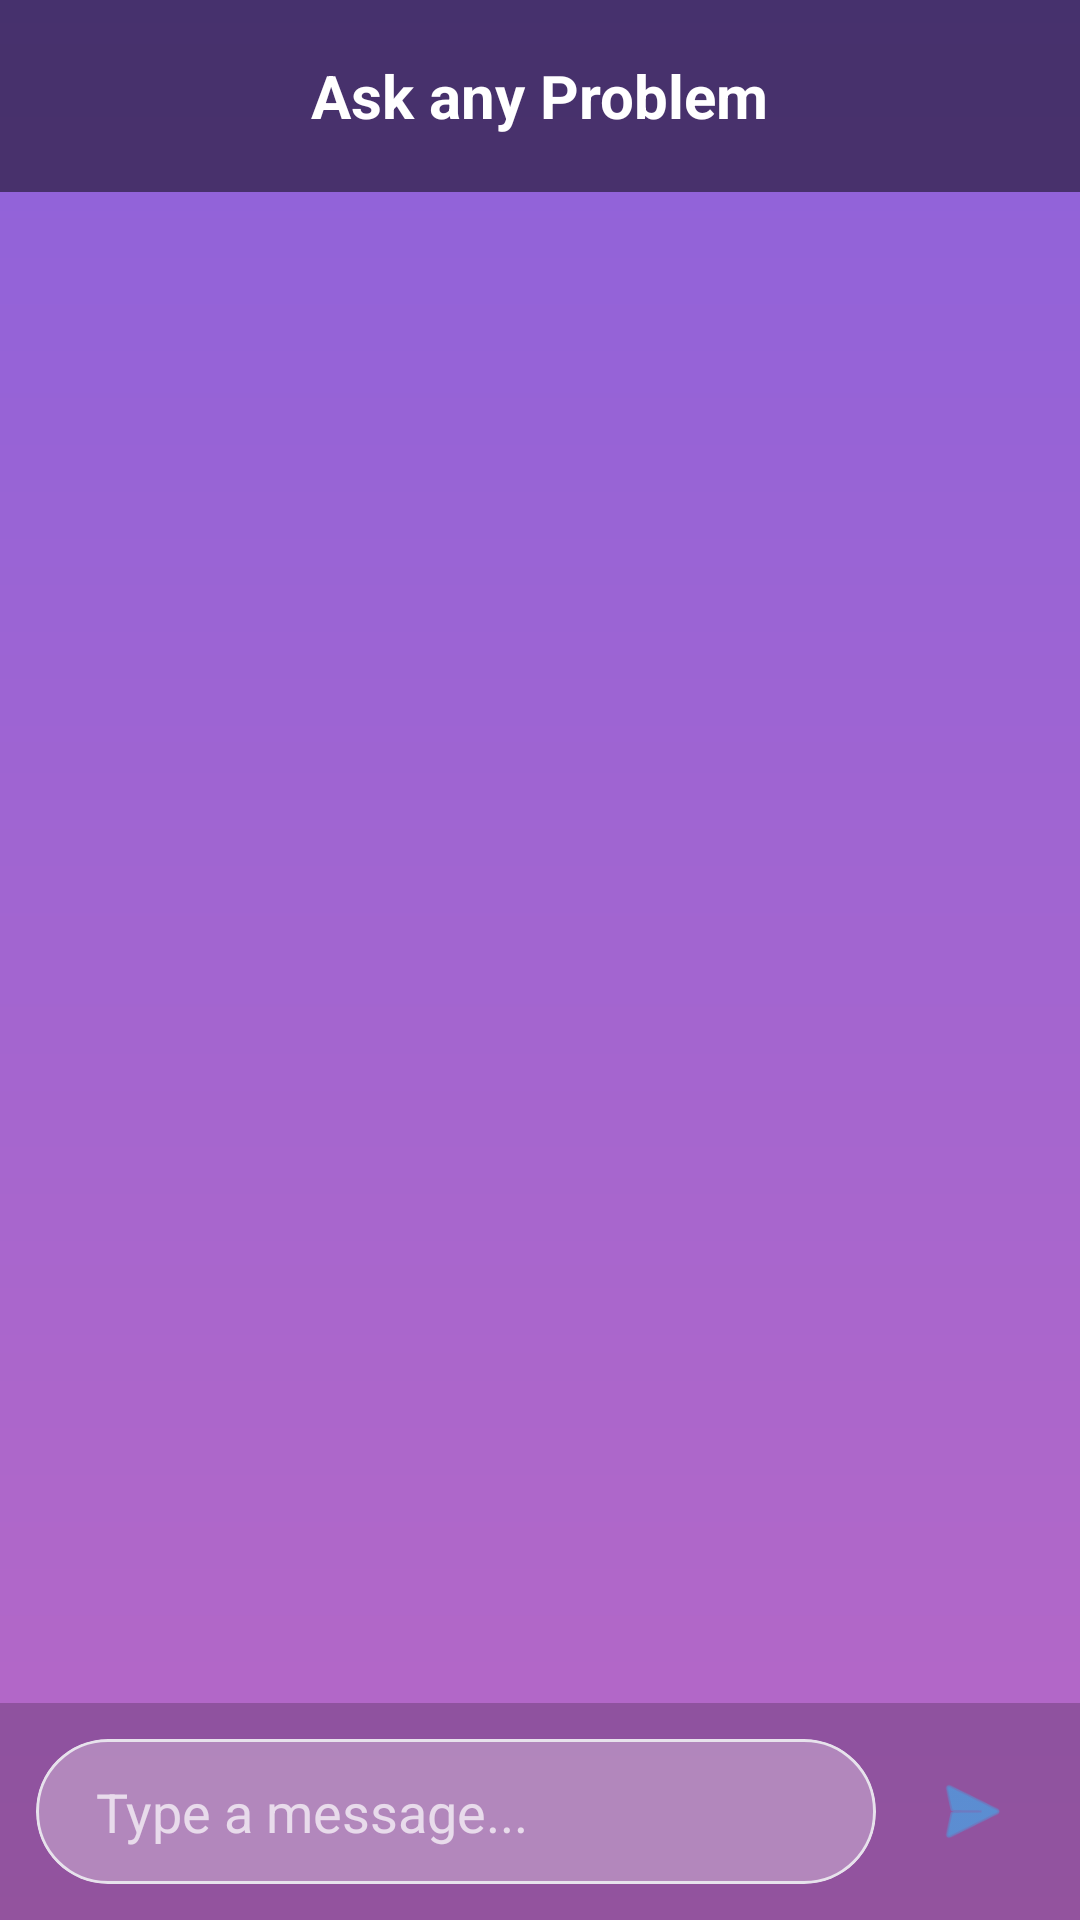

Icons on this 1080w x 1920h Android screen, each with its box as (x1,y1,x2,y2):
send: (946,1785,999,1837)
